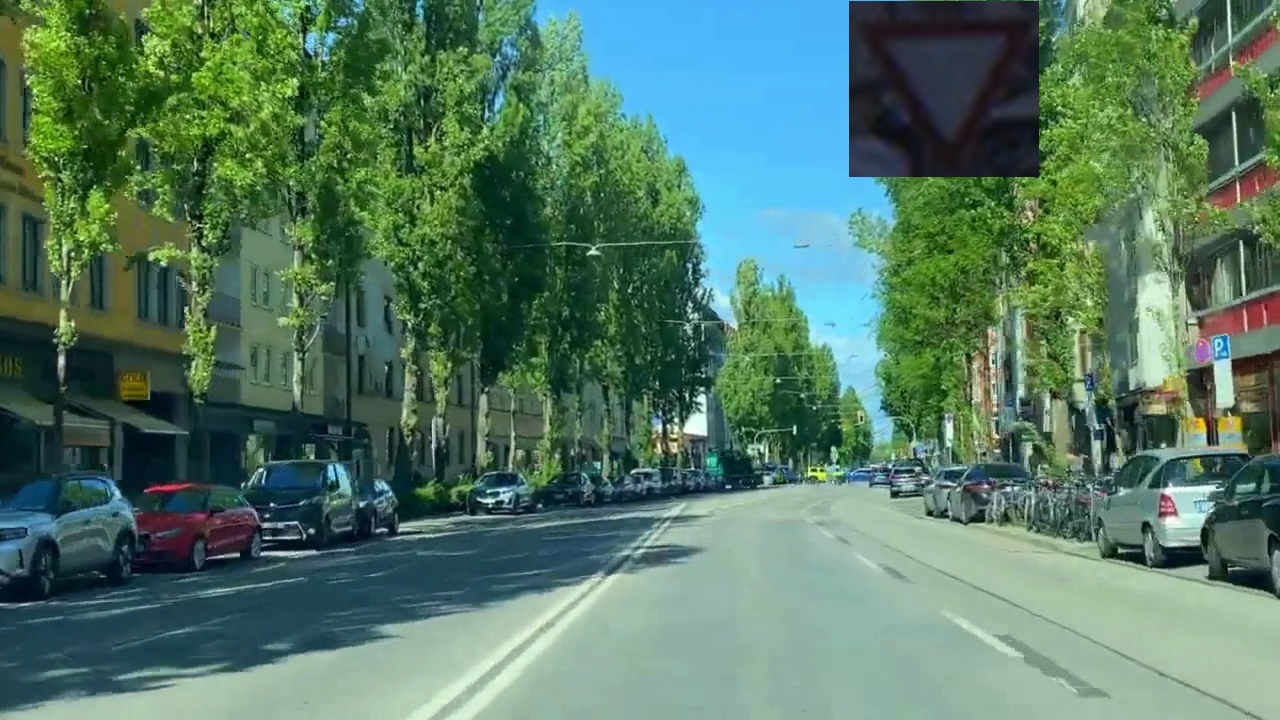Yield: (849, 1, 1039, 177)
